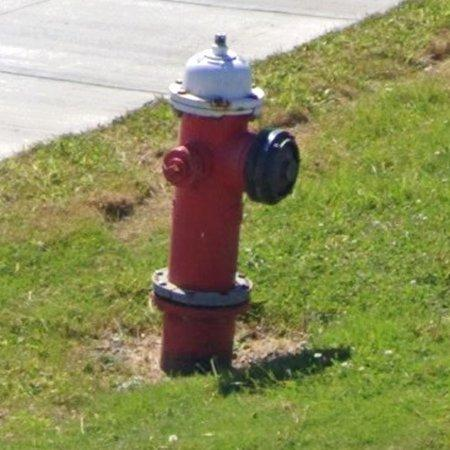a fire hydrant: (153, 35, 299, 374)
